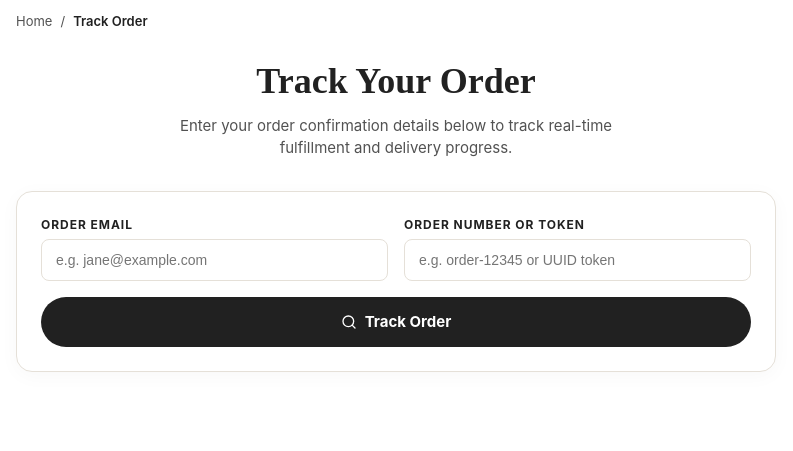
Scenario: OrderTrackingView › shows error alert when order is not found
This screenshot has width=793, height=451.
Type "wrong@example.com" into the field labelled "Order Email".
click(214, 260); type("wrong@example.com")  # box [41,239,388,281]
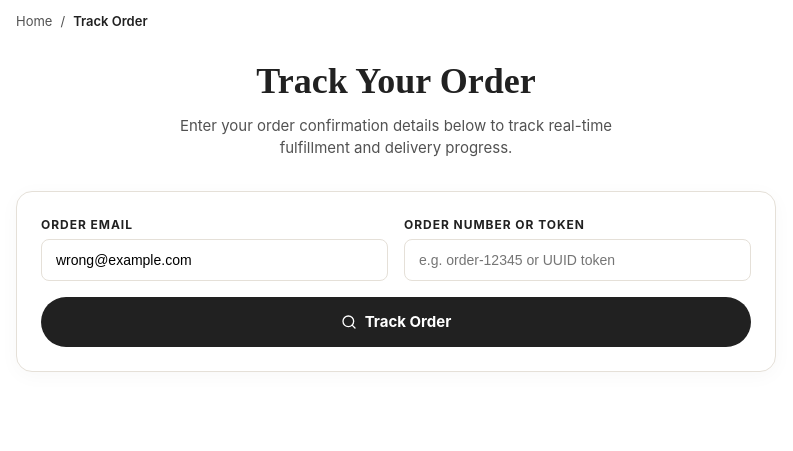
Type "invalid-id" into the field labelled "Order Number or Token".
click(578, 260); type("invalid-id")  # box [404,239,751,281]
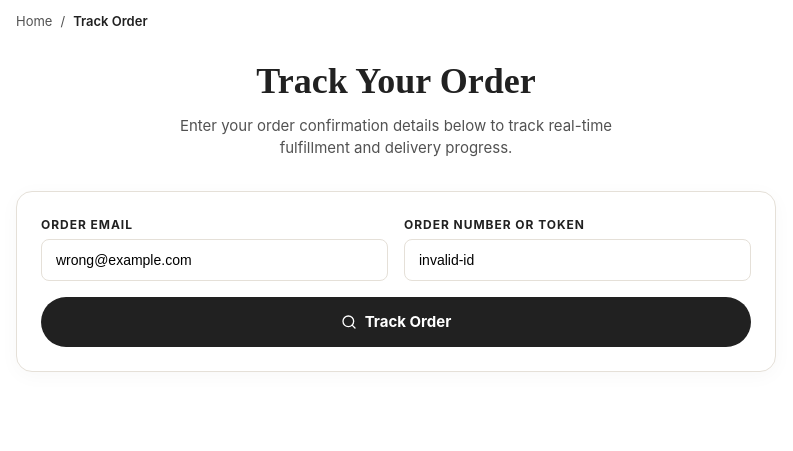
Click the button "Track Order".
click(396, 322)  # box [41,297,751,347]
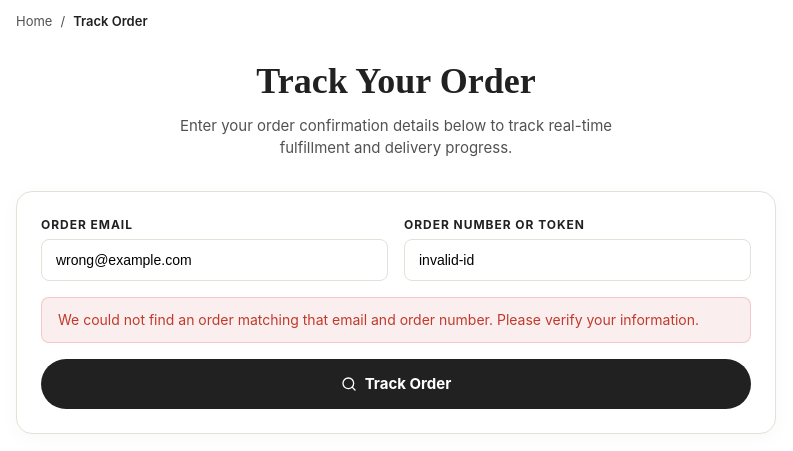
Result: the message is shown at [41,297,751,343]
Result: the text "We could not find an order matching that email and order number" is shown at [58,311,699,328]
